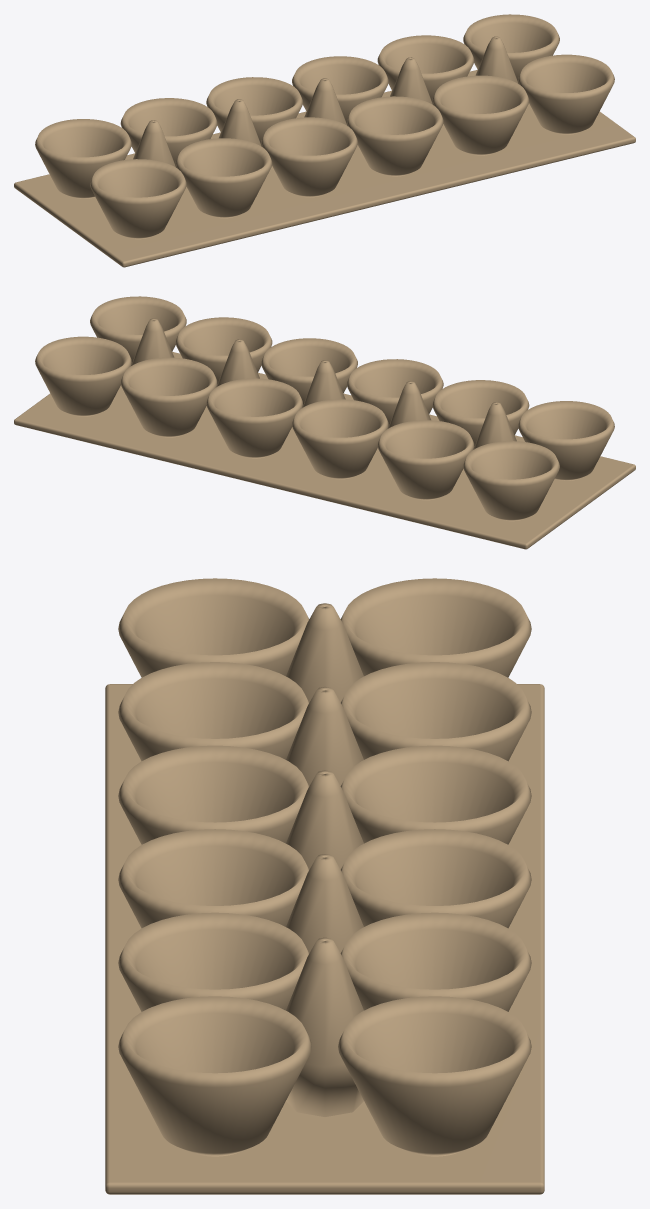
The model's file is fridge_contents__molded_pulp_egg_tray.glb.
3 views of the same model, one above another, from view 1: azimuth 30°, elevation 25°; view 2: azimuth 150°, elevation 25°; view 3: azimuth 270°, elevation 25° (orthographic). The views are drawn at different scales.
Parts seen in each view (by area): view 1: pulp bottom web, pressed pulp well, pressed pulp well.008, pressed pulp well.002, pressed pulp well.006, pressed pulp well.010, pressed pulp well.004, pressed pulp well.001, pressed pulp well.005, pressed pulp well.003, pressed pulp well.009, pressed pulp well.011 (+6 smaller); view 2: pulp bottom web, pressed pulp well.001, pressed pulp well.009, pressed pulp well.003, pressed pulp well.007, pressed pulp well.011, pressed pulp well.005, pressed pulp well, pressed pulp well.004, pressed pulp well.002, pressed pulp well.008, pressed pulp well.010 (+6 smaller); view 3: pulp bottom web, pressed pulp well.010, pressed pulp well.011, pressed pulp well, pressed pulp well.001, pressed pulp well.004, pressed pulp well.005, pressed pulp well.008, pressed pulp well.009, pressed pulp well.002, pressed pulp well.003, pressed pulp well.006 (+6 smaller).
Part boxes in pixels (x1,y1,x2,y2): pulp bottom web: [14, 70, 635, 267]; pressed pulp well: [90, 159, 186, 239]; pressed pulp well.008: [432, 75, 529, 155]; pressed pulp well.002: [175, 138, 272, 218]; pressed pulp well.006: [347, 96, 443, 176]; pressed pulp well.010: [518, 54, 614, 134]; pressed pulp well.004: [261, 117, 357, 197]; pressed pulp well.001: [35, 119, 131, 198]; pressed pulp well.005: [206, 77, 302, 145]; pressed pulp well.003: [120, 98, 217, 167]; pressed pulp well.009: [377, 35, 474, 104]; pressed pulp well.011: [463, 14, 559, 83]; pulp bottom web: [14, 352, 635, 549]; pressed pulp well.001: [463, 441, 559, 521]; pressed pulp well.009: [120, 357, 217, 437]; pressed pulp well.003: [377, 420, 474, 500]; pressed pulp well.007: [206, 378, 302, 458]; pressed pulp well.011: [35, 336, 131, 416]; pressed pulp well.005: [292, 399, 388, 479]; pressed pulp well: [518, 401, 614, 480]; pressed pulp well.004: [347, 359, 443, 427]; pressed pulp well.002: [432, 380, 529, 449]; pressed pulp well.008: [175, 317, 272, 386]; pressed pulp well.010: [90, 296, 186, 365]; pulp bottom web: [105, 684, 544, 1194]; pressed pulp well.010: [118, 996, 311, 1156]; pressed pulp well.011: [338, 996, 531, 1156]; pressed pulp well: [118, 578, 309, 677]; pressed pulp well.001: [340, 578, 531, 677]; pressed pulp well.004: [118, 745, 309, 844]; pressed pulp well.005: [340, 745, 531, 844]; pressed pulp well.008: [118, 912, 309, 1011]; pressed pulp well.009: [340, 912, 531, 1011]; pressed pulp well.002: [118, 662, 308, 761]; pressed pulp well.003: [341, 662, 531, 761]; pressed pulp well.006: [118, 829, 308, 928].
Size of the model in its own units: 0.27 by 0.043 by 0.1.
